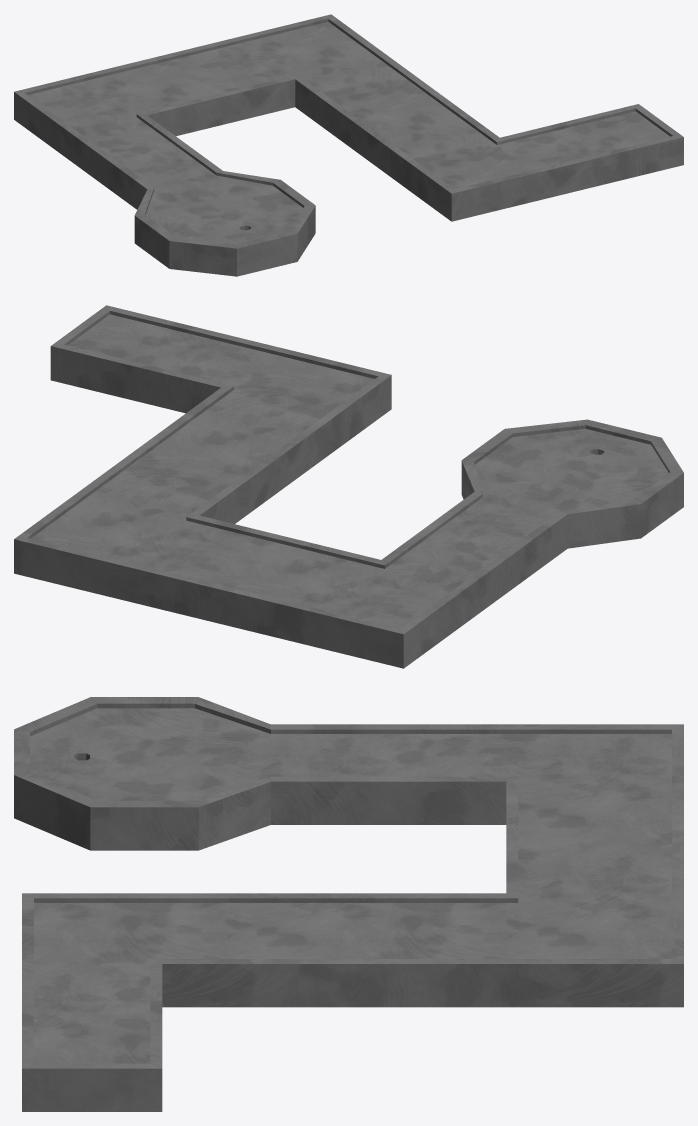
The model's file is Map_P2.fbx.
3 views of the same model, one above another, from view 1: azimuth 30°, elevation 25°; view 2: azimuth 150°, elevation 25°; view 3: azimuth 270°, elevation 25° (orthographic). The views are drawn at different scales.
Parts seen in each view (by area): view 1: Part2G, Part2; view 2: Part2G, Part2; view 3: Part2G, Part2.
Boxes of the visible parts, left/top/right/bottom form: Part2G: left=28, top=21, right=669, bottom=243; Part2: left=14, top=14, right=683, bottom=276; Part2G: left=31, top=314, right=668, bottom=628; Part2: left=14, top=305, right=683, bottom=668; Part2G: left=30, top=708, right=671, bottom=1063; Part2: left=14, top=697, right=683, bottom=1111.
Bounding box in the file's own units: 2445 × 133 × 1863.
